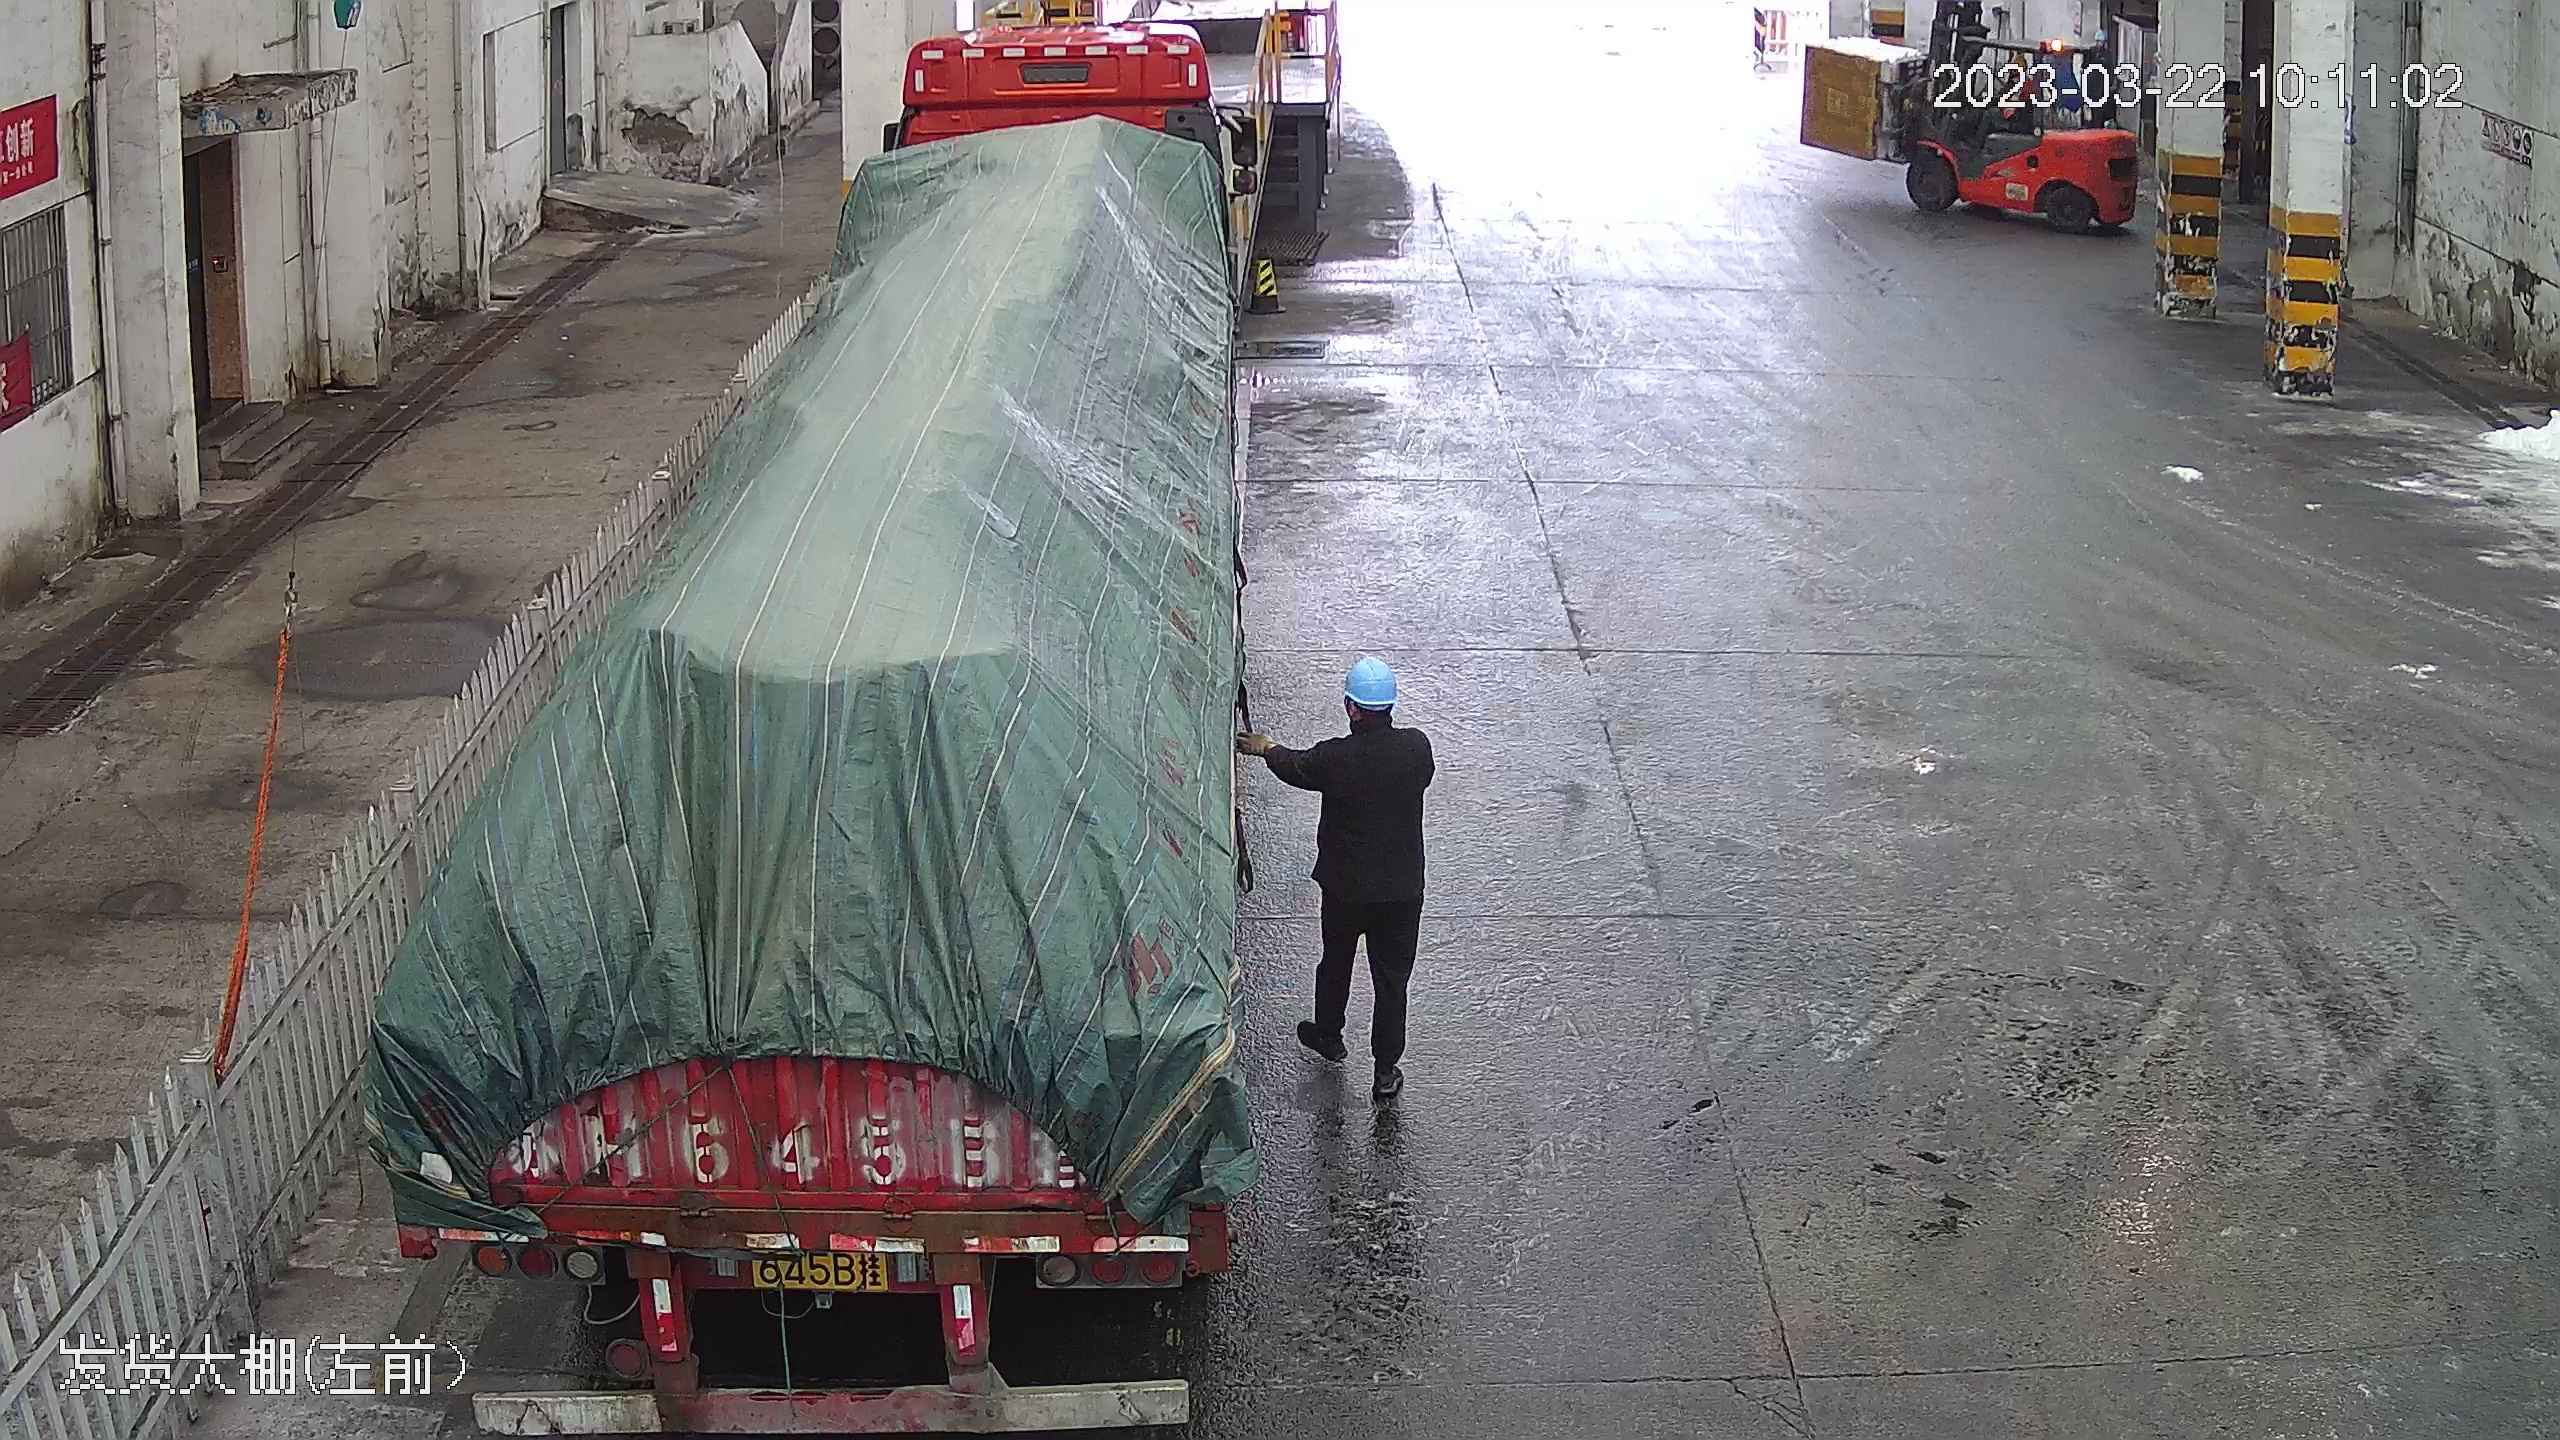head: (1300, 650, 1432, 797)
helmet: (1338, 651, 1401, 705)
people: (1240, 643, 1435, 1137)
truck: (178, 0, 1275, 1440)
